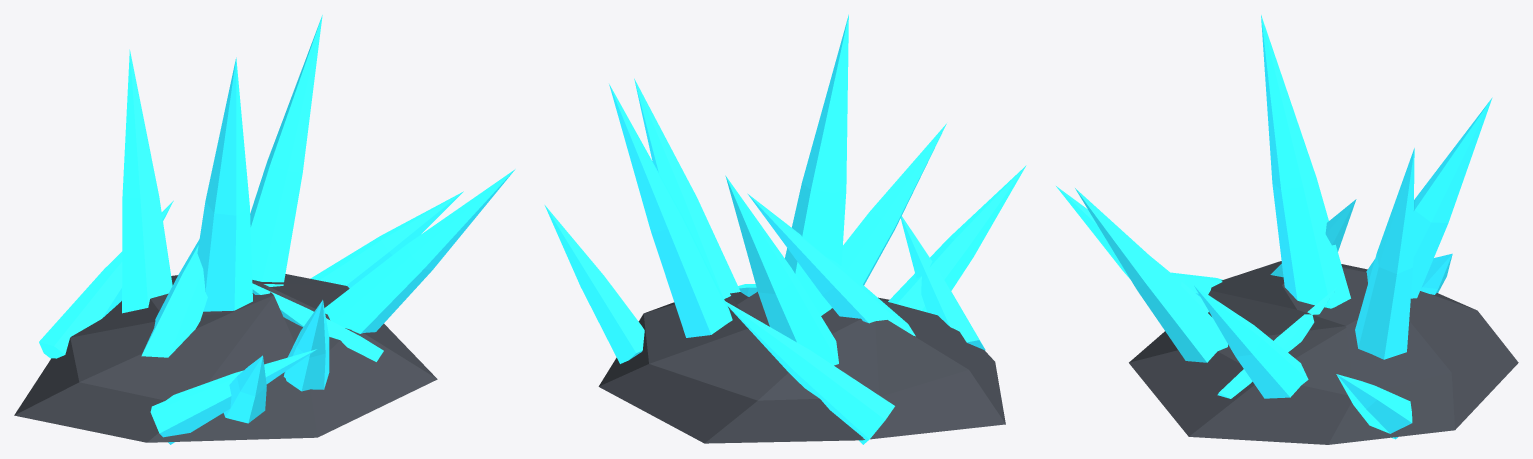
File: PROP_06_CrystalSpikes.fbx
3 views of the same model, side by side, from view 1: azimuth 30°, elevation 25°; view 2: azimuth 150°, elevation 25°; view 3: azimuth 270°, elevation 25° (orthographic).
Parts seen in each view (by area): view 1: PROP_06_CrystalSpikes; view 2: PROP_06_CrystalSpikes; view 3: PROP_06_CrystalSpikes.
Part boxes in pixels (<box>): PROP_06_CrystalSpikes: <box>14,15,515,444</box>; PROP_06_CrystalSpikes: <box>544,14,1026,444</box>; PROP_06_CrystalSpikes: <box>1056,15,1518,444</box>.
Bounding box in the file's own units: 247 × 180 × 215.
